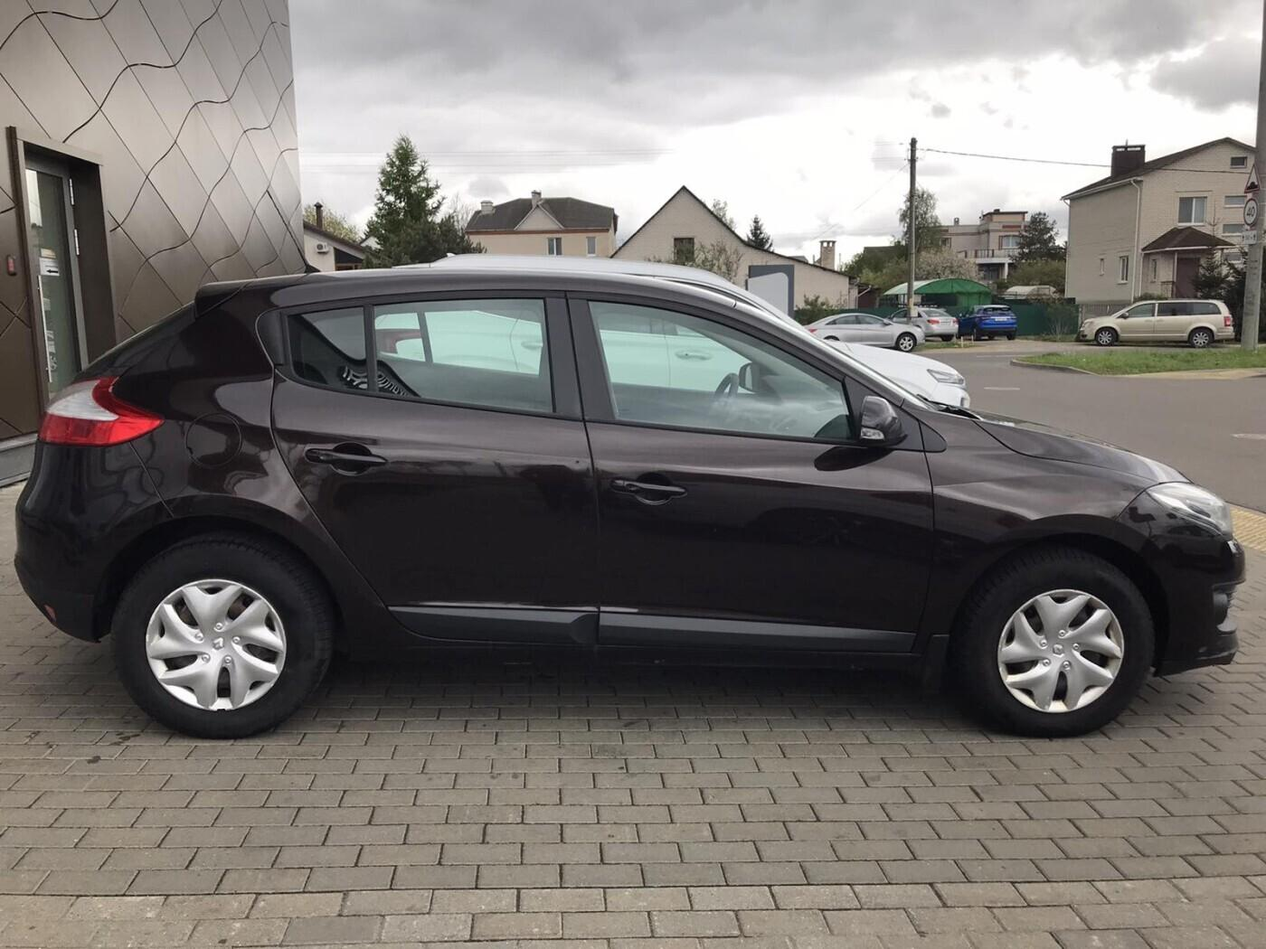Megane_2012-2014: (12, 269, 1243, 753)
